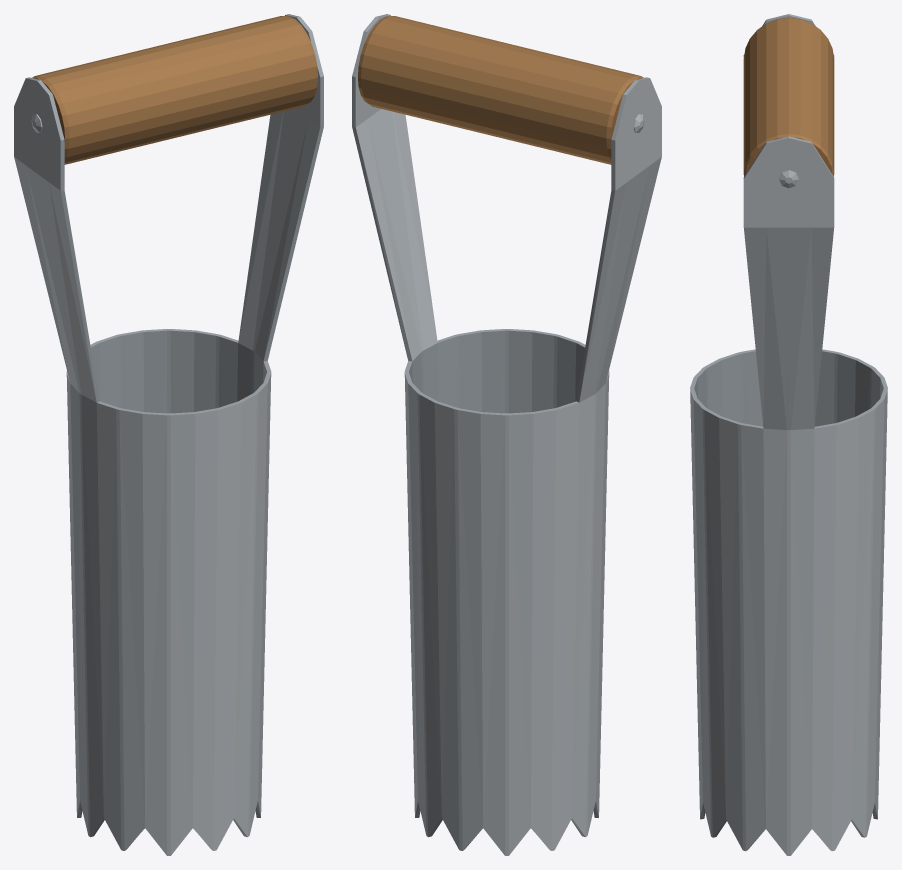
The picture shows the model from 3 angles, left to right: view 1: azimuth 30°, elevation 25°; view 2: azimuth 150°, elevation 25°; view 3: azimuth 270°, elevation 25°; orthographic projection. The views are drawn at different scales.
Parts seen in each view (by area): view 1: Continuous_hollow_serrated_cutter_and_two_flat_uprights, Transverse_hardwood_grip_seated_between_flat_arms; view 2: Continuous_hollow_serrated_cutter_and_two_flat_uprights, Transverse_hardwood_grip_seated_between_flat_arms; view 3: Continuous_hollow_serrated_cutter_and_two_flat_uprights, Transverse_hardwood_grip_seated_between_flat_arms.
Part boxes in pixels (<box>): Continuous_hollow_serrated_cutter_and_two_flat_uprights: <box>14,14,323,855</box>; Transverse_hardwood_grip_seated_between_flat_arms: <box>32,16,317,164</box>; Continuous_hollow_serrated_cutter_and_two_flat_uprights: <box>352,14,661,855</box>; Transverse_hardwood_grip_seated_between_flat_arms: <box>358,16,643,164</box>; Continuous_hollow_serrated_cutter_and_two_flat_uprights: <box>690,14,887,855</box>; Transverse_hardwood_grip_seated_between_flat_arms: <box>743,17,834,176</box>.
Size of the model in its own units: 0.1064 by 0.29 by 0.07.
